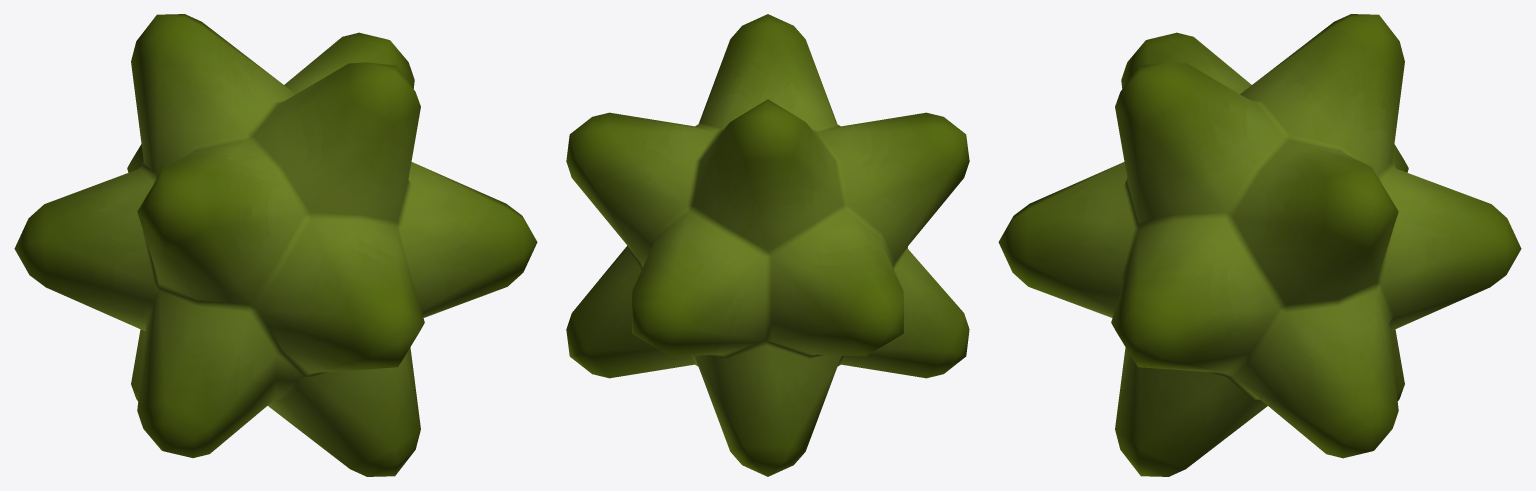
The model's file is leo-fragment.glb.
3 views of the same model, side by side, from view 1: azimuth 30°, elevation 25°; view 2: azimuth 150°, elevation 25°; view 3: azimuth 270°, elevation 25° (orthographic). The views are drawn at different scales.
Size of the model in its own units: 3.1 by 3.05 by 3.52.
1 material, 1 textured.
